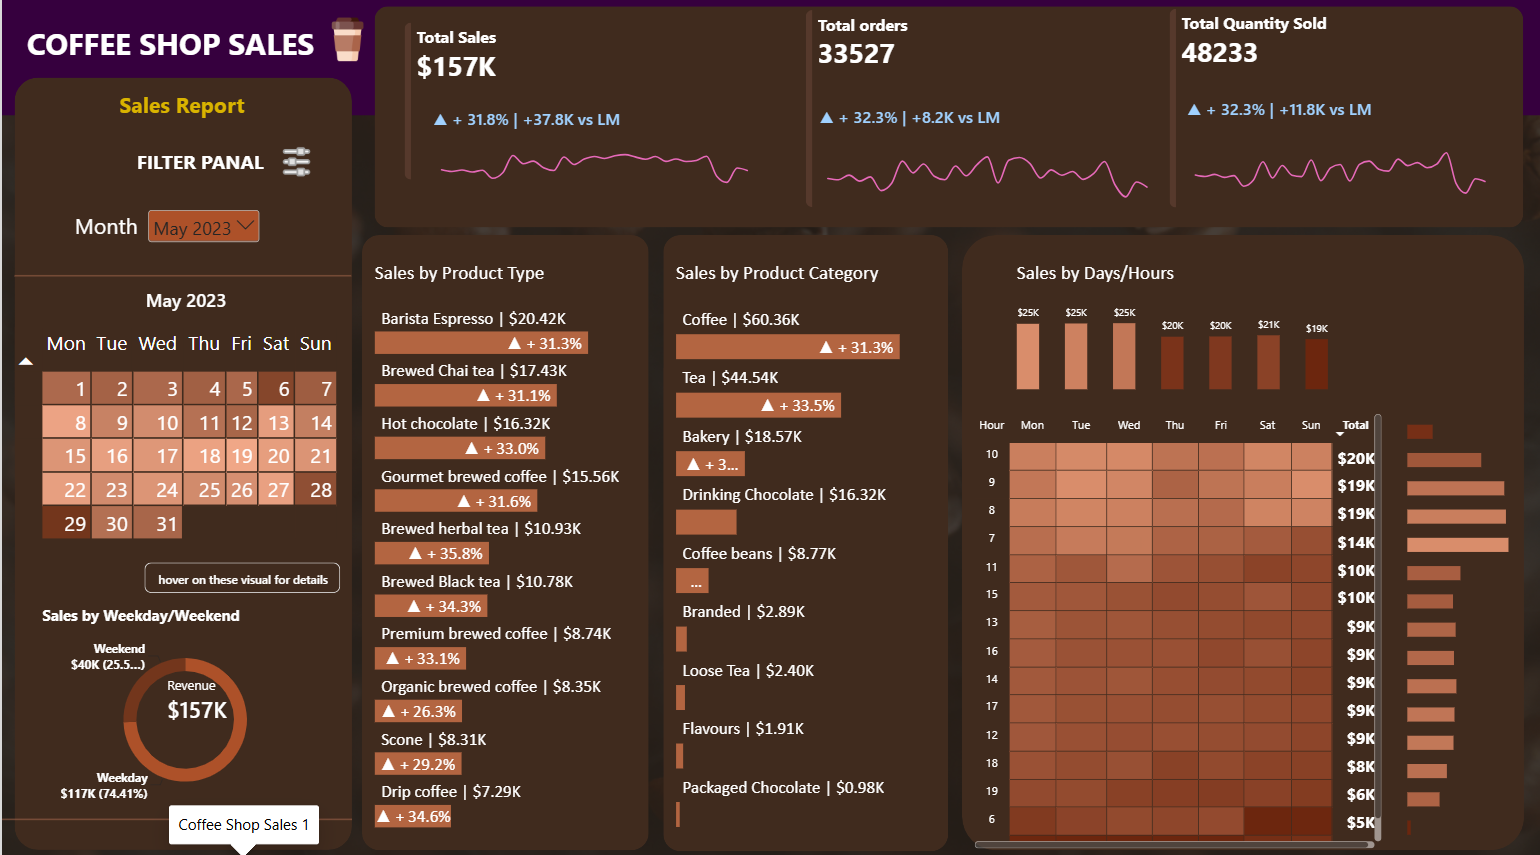

The dashboard page shown, as its layout file describes it:
{"tool":"powerbi","page":{"name":"Coffee Shop Sales 1","canvas":[1920,1080],"ordinal":0},"visuals":[{"type":"shape","box":[1196.5,300,701.2,767.4],"z":0},{"type":"shape","box":[824.7,299.3,355.4,768.5],"z":1000},{"type":"shape","box":[0,0,1918.6,150],"z":2000},{"type":"shape","box":[15.6,102.9,420.9,963.4],"z":3000},{"type":"shape","box":[464.6,14,1432.6,275.9],"z":4000},{"type":"cardVisual","fields":{"Data":[" Measures.Total Quantity Sold"]},"box":[1456,17.1,430.3,248.4],"z":4000,"group":"g3"},{"type":"cardVisual","fields":{"Data":[" Measures.Total orders"]},"box":[1002.4,18.7,453.6,246.7],"z":4000,"group":"g2"},{"type":"cardVisual","fields":{"Data":[" Measures.Total Sales"]},"box":[502,34.3,469.2,196.2],"z":4000,"group":"g1"},{"type":"textbox","box":[31.2,34.3,361.7,51.4],"z":5000},{"type":"slicer","fields":{"Values":["Date Table.Month Year"]},"box":[177.7,263.5,148.3,52.3],"z":6000},{"type":"lineChart","fields":{"Category":["Calender.Date.Variation.Date Hierarchy.Year"],"Y":[" Measures.Total Quantity Sold"]},"box":[1462.1,113.2,413.2,156.4],"z":7000,"group":"g3"},{"type":"lineChart","fields":{"Category":["Calender.Date.Variation.Date Hierarchy.Year"],"Y":[" Measures.Total orders"]},"box":[1003.5,123.6,450.1,146.1],"z":7000,"group":"g2"},{"type":"lineChart","fields":{"Category":["Calender.Date.Variation.Date Hierarchy.Year"],"Y":[" Measures.Total Sales"]},"box":[522.9,126.2,433.3,143.5],"z":7000,"group":"g1"},{"type":"group","id":"g1","title":"Group 1","box":[502,34.3,469.2,235.4],"z":8000},{"type":"group","id":"g2","title":"Group 1","box":[1002.4,18.7,453.6,251],"z":9000},{"type":"group","id":"g3","title":"Group 1","box":[1456,17.1,430.3,252.5],"z":10000},{"type":"pivotTable","fields":{"Columns":["Date Table.Day Name"],"Rows":["Date Table.Week Number"],"Values":["Sum(Date Table.Day Num)"]},"box":[0,400.6,449,296.2],"z":11000},{"type":"cardVisual","fields":{"Data":["Min(Date Table.Month Year)"]},"box":[134.1,358.5,191.5,42.4],"z":12000},{"type":"cardVisual","fields":{"Data":[" Measures.Foot Note"]},"box":[177.7,707.7,244.1,39],"z":13000},{"type":"shape","box":[0,1021.1,436.5,14],"z":15000},{"type":"clusteredBarChart","title":"Sales by Product Category","fields":{"Category":["Transactions.product_category"],"Y":[" Measures.Place Holder"," Measures.Total Sales"]},"box":[824.7,316.5,355.4,737.4],"z":16000},{"type":"shape","box":[15.6,341.4,420.4,17.4],"z":17000},{"type":"shape","box":[448.3,300,357.6,767.4],"z":18000},{"type":"clusteredBarChart","title":"Sales by Product Type","fields":{"Category":["Transactions.product_type"],"Y":[" Measures.Place Holder"," Measures.Total Sales"]},"box":[448.3,315.7,357.6,737.8],"z":19000},{"type":"pivotTable","fields":{"Columns":["Date Table.Day Name"],"Rows":["Transactions.Hour"],"Values":[" Measures.Total Sales"]},"box":[1197.2,508.2,539.4,572.1],"z":20000},{"type":"barChart","fields":{"Category":["Transactions.Hour"],"Y":[" Measures.Total Sales"]},"box":[1736.6,508.2,160.5,559.9],"z":21000},{"type":"columnChart","title":"Sales by Days/Hours","fields":{"Category":["Date Table.Day Name"],"Y":[" Measures.Total Sales"]},"box":[1245.4,315.7,429.1,191.9],"z":22000},{"type":"textbox","box":[82.6,269.7,95.1,42.1],"z":22001},{"type":"textbox","box":[99.8,118.5,249.4,42.1],"z":22002},{"type":"image","box":[330.5,182.4,73.3,51.4],"z":22004},{"type":"textbox","box":[168.4,191.7,180.8,37.4],"z":22005},{"type":"donutChart","title":"Sales by Weekday/Weekend","fields":{"Category":["Date Table.WEEKDAY/WEEKEND"],"Y":[" Measures.Total Sales"]},"box":[34.3,746.7,388.2,274.4],"z":22006},{"type":"cardVisual","fields":{"Data":[" Measures.Total Sales"]},"box":[190.2,824.7,123.8,111.6],"z":22007},{"type":"image","box":[403.8,24.9,54.6,60.8],"z":22008}]}

Visuals, with their boxes in screenshot pixels (x1, y1, x2, y2), scaled from the page's 1920x1080 canvas onto the 1540x855 screenshot:
shape: [960,238,1522,845]
shape: [661,237,947,845]
shape: [0,0,1539,119]
shape: [13,81,350,844]
shape: [373,11,1522,230]
cardVisual -  Measures.Total Quantity Sold: [1168,14,1513,210]
cardVisual -  Measures.Total orders: [804,15,1168,210]
cardVisual -  Measures.Total Sales: [403,27,779,182]
textbox: [25,27,315,68]
slicer - Date Table.Month Year: [143,209,261,250]
lineChart - Calender.Date.Variation.Date Hierarchy.Year x  Measures.Total Quantity Sold: [1173,90,1504,213]
lineChart - Calender.Date.Variation.Date Hierarchy.Year x  Measures.Total orders: [805,98,1166,214]
lineChart - Calender.Date.Variation.Date Hierarchy.Year x  Measures.Total Sales: [419,100,767,214]
"Group 1" group: [403,27,779,214]
"Group 1" group: [804,15,1168,214]
"Group 1" group: [1168,14,1513,213]
pivotTable - Date Table.Day Name x Date Table.Week Number: [0,317,360,552]
cardVisual - Min(Date Table.Month Year): [108,284,261,317]
cardVisual -  Measures.Foot Note: [143,560,338,591]
shape: [0,808,350,819]
"Sales by Product Category" clusteredBarChart: [661,251,947,834]
shape: [13,270,350,284]
shape: [360,238,646,845]
"Sales by Product Type" clusteredBarChart: [360,250,646,834]
pivotTable - Date Table.Day Name x Transactions.Hour: [960,402,1393,854]
barChart - Transactions.Hour x  Measures.Total Sales: [1393,402,1522,846]
"Sales by Days/Hours" columnChart: [999,250,1343,402]
textbox: [66,214,143,247]
textbox: [80,94,280,127]
image: [265,144,324,185]
textbox: [135,152,280,181]
"Sales by Weekday/Weekend" donutChart: [28,591,339,808]
cardVisual -  Measures.Total Sales: [153,653,252,741]
image: [324,20,368,68]
